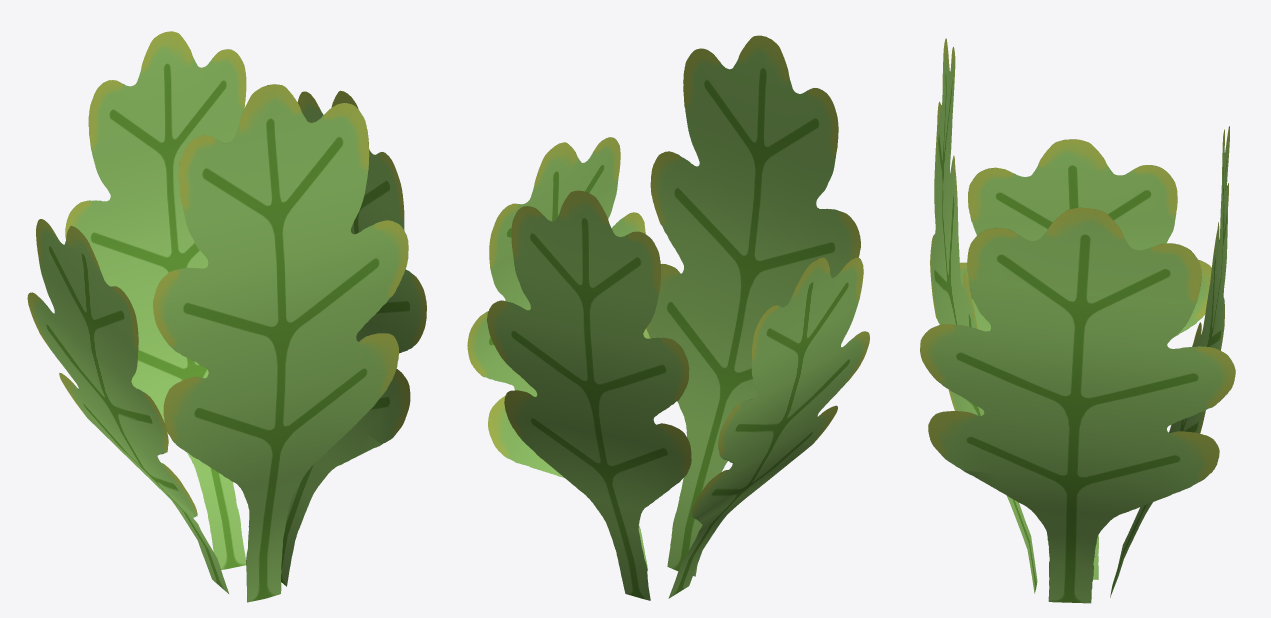
Rendered from baby_carrot.fbx.
The picture shows the model from 3 angles, left to right: view 1: azimuth 30°, elevation 25°; view 2: azimuth 150°, elevation 25°; view 3: azimuth 270°, elevation 25°; orthographic projection. The views are drawn at different scales.
Visible parts, largest first — view 1: Baby_carrot; view 2: Baby_carrot; view 3: Baby_carrot.
Boxes of the visible parts, bbox=[...] form: Baby_carrot: bbox=[27, 31, 426, 602]; Baby_carrot: bbox=[467, 35, 869, 600]; Baby_carrot: bbox=[920, 38, 1235, 603].
Bounding box in the file's own units: 78.2 × 141 × 81.96.
Materials: 1 (1 with a texture image).
